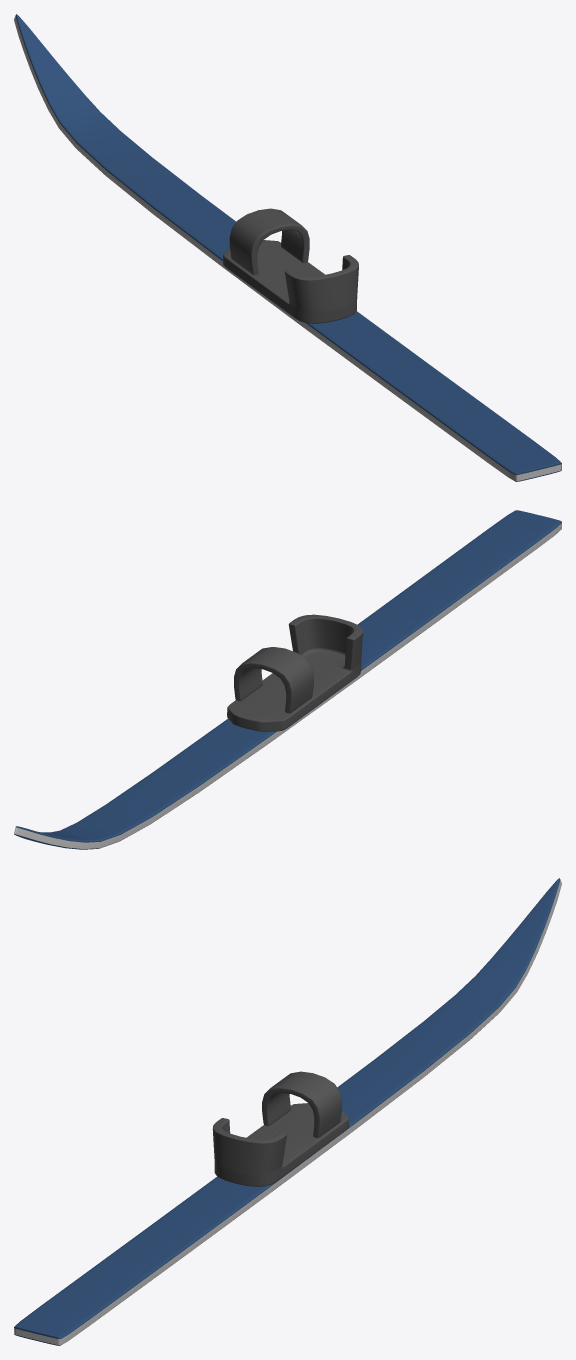
The model's file is ski.fbx.
3 renders of one model, top to bottom at view 1: azimuth 30°, elevation 25°; view 2: azimuth 150°, elevation 25°; view 3: azimuth 330°, elevation 25°, orthographic.
Parts seen in each view (by area): view 1: ski; view 2: ski; view 3: ski.
Part boxes in pixels (box(x1,y1,x2,y2)): ski: box(14, 14, 561, 481); ski: box(14, 510, 561, 849); ski: box(14, 878, 561, 1345).
Size of the model in its own units: 0.0995 by 0.1162 by 1.37.
